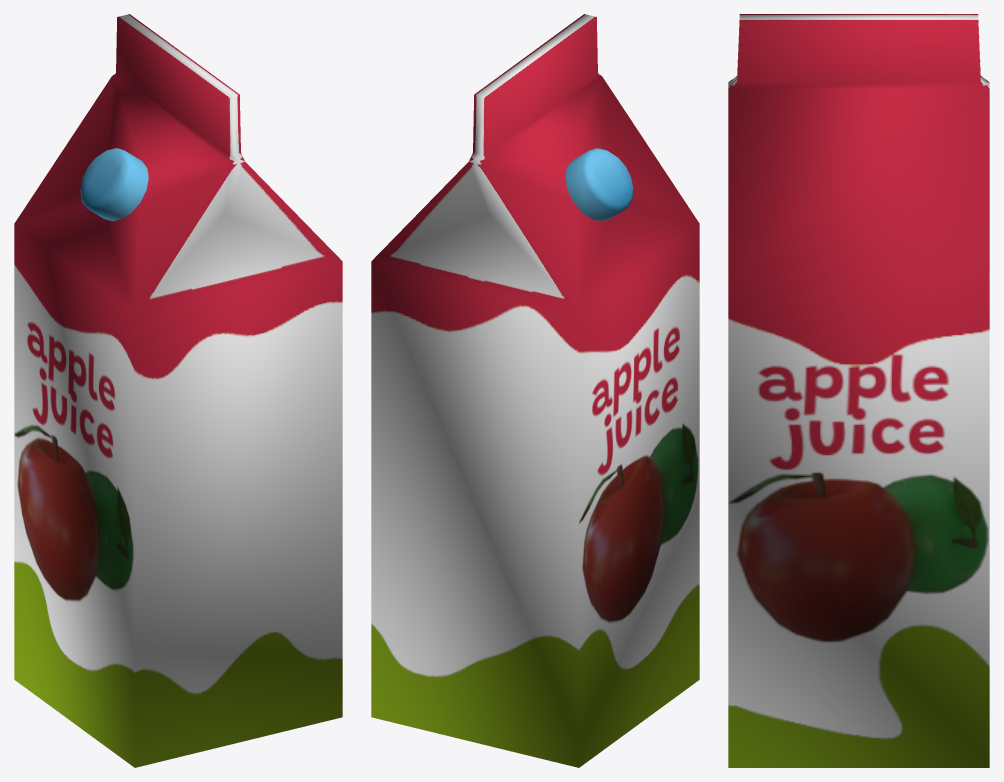
The model's file is applejuicegfx.glb.
The picture shows the model from 3 angles, left to right: view 1: azimuth 30°, elevation 25°; view 2: azimuth 150°, elevation 25°; view 3: azimuth 270°, elevation 25°; orthographic projection. The views are drawn at different scales.
Visible parts, largest first — view 1: applejuicegfx, applejuicegfx.001; view 2: applejuicegfx, applejuicegfx.001; view 3: applejuicegfx.
Boxes of the visible parts, box(x1,y1,x2,y2) form: applejuicegfx: box(14, 14, 342, 767); applejuicegfx.001: box(80, 148, 148, 221); applejuicegfx: box(371, 14, 699, 767); applejuicegfx.001: box(565, 148, 633, 221); applejuicegfx: box(728, 14, 989, 767).
Size of the model in its own units: 0.1732 by 0.5116 by 0.1742.
Materials: 1 (1 with a texture image).
